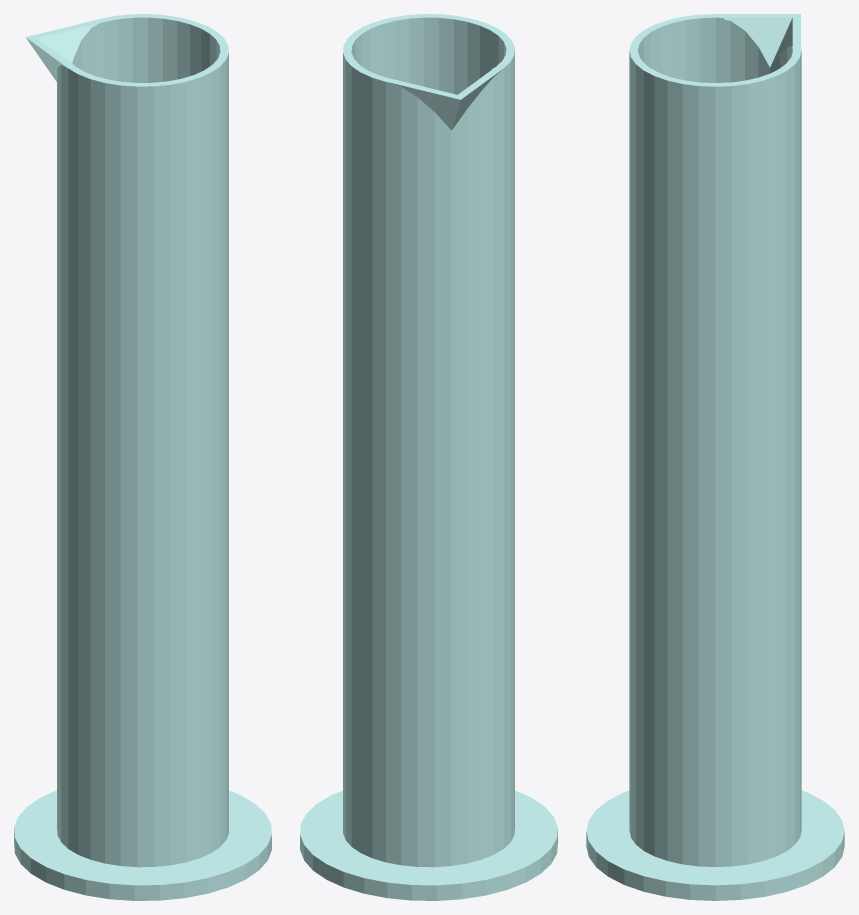
The model's file is maatcylinder.glb.
3 views of the same model, side by side, from view 1: azimuth 30°, elevation 25°; view 2: azimuth 150°, elevation 25°; view 3: azimuth 270°, elevation 25° (orthographic).
Visible parts, largest first — view 1: Cylinder; view 2: Cylinder; view 3: Cylinder.
Part boxes in pixels (<box>): Cylinder: <box>14,14,271,900</box>; Cylinder: <box>300,14,557,900</box>; Cylinder: <box>586,14,844,900</box>.
Size of the model in its own units: 3 by 10.2 by 3.
